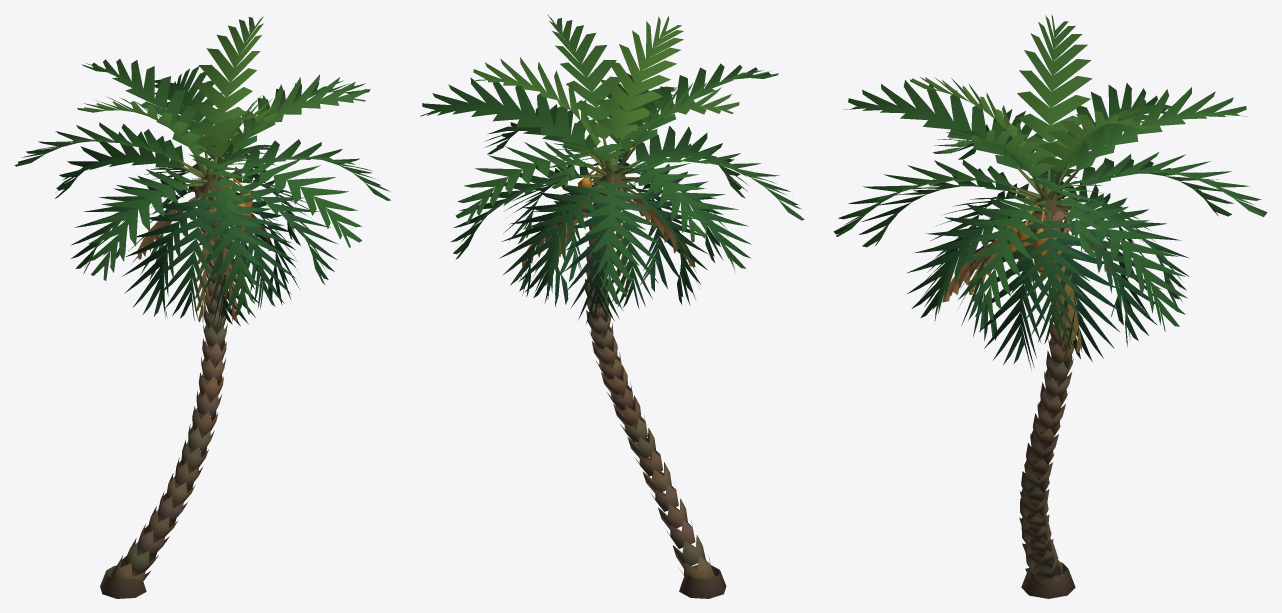
Rendered from palm_b.glb.
3 views of the same model, side by side, from view 1: azimuth 30°, elevation 25°; view 2: azimuth 150°, elevation 25°; view 3: azimuth 270°, elevation 25° (orthographic). The views are drawn at different scales.
Parts seen in each view (by area): view 1: palm_b; view 2: palm_b; view 3: palm_b.
Part boxes in pixels (left/top/right/bottom): palm_b: left=14, top=16, right=390, bottom=598; palm_b: left=420, top=15, right=804, bottom=598; palm_b: left=833, top=14, right=1267, bottom=598.
Size of the model in its own units: 9.61 by 14.11 by 9.74.
